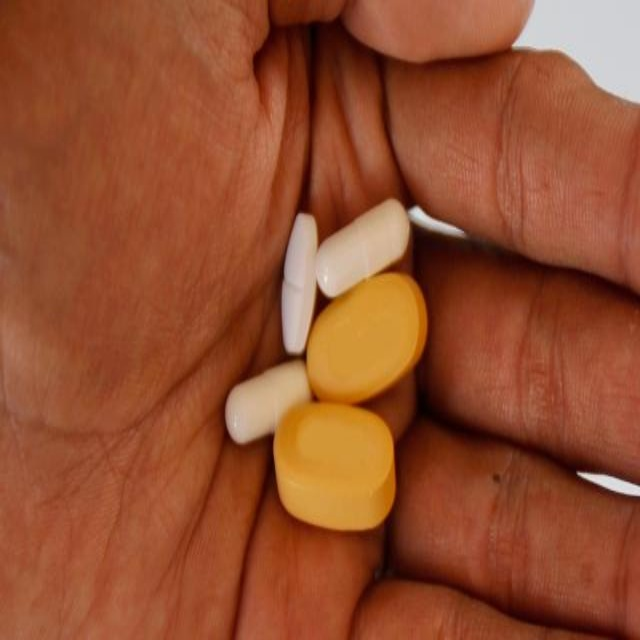pill: (303, 154, 430, 230), (272, 227, 398, 300), (316, 113, 413, 165), (223, 201, 312, 251), (281, 119, 312, 199)
